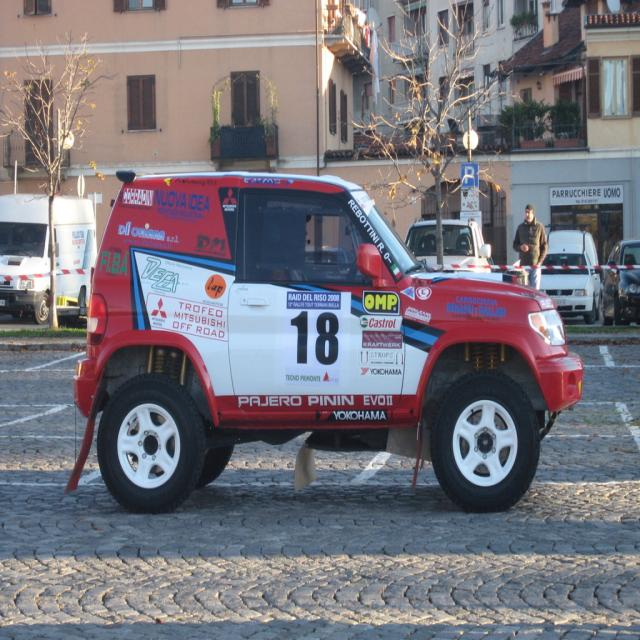car: (60, 156, 590, 527)
